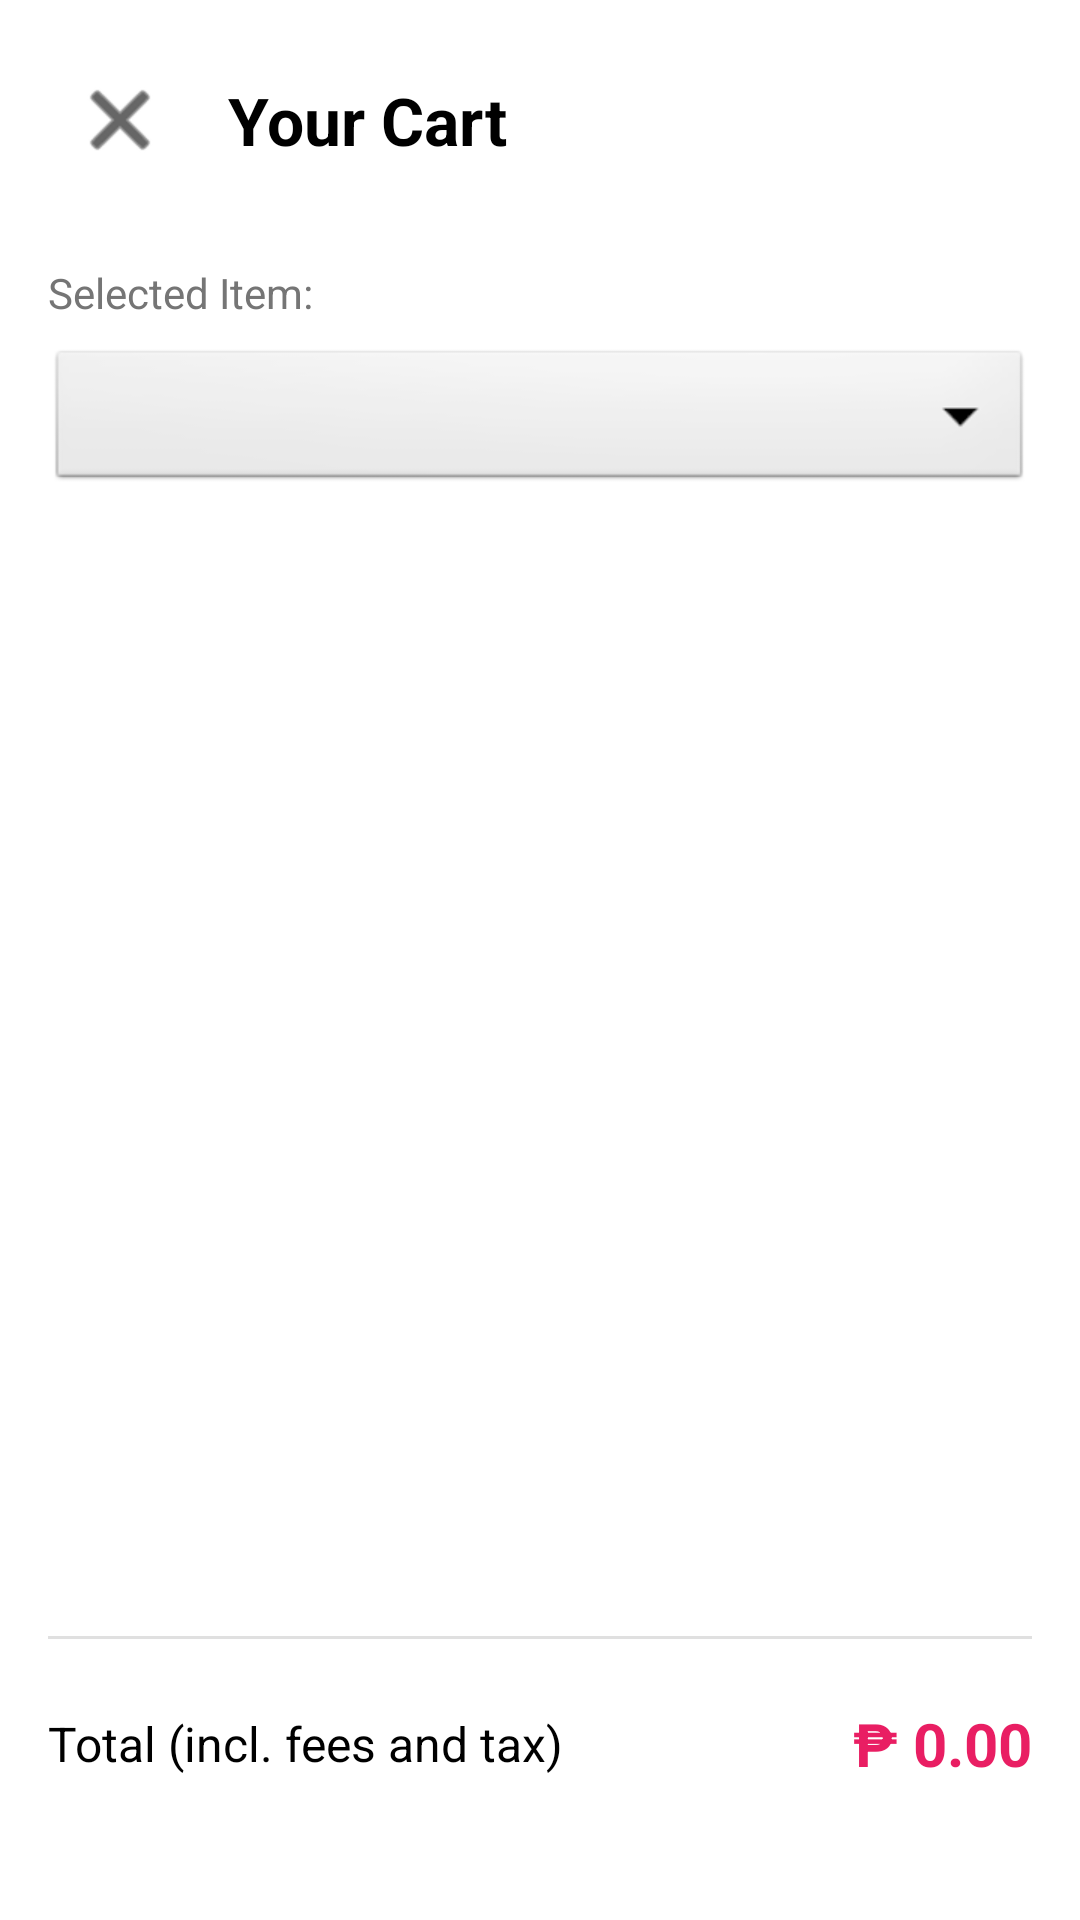

Icons on this 1080px x 1920px Android screen, each with the point to tap as [x,y]:
close clear cancel: [120,120]
